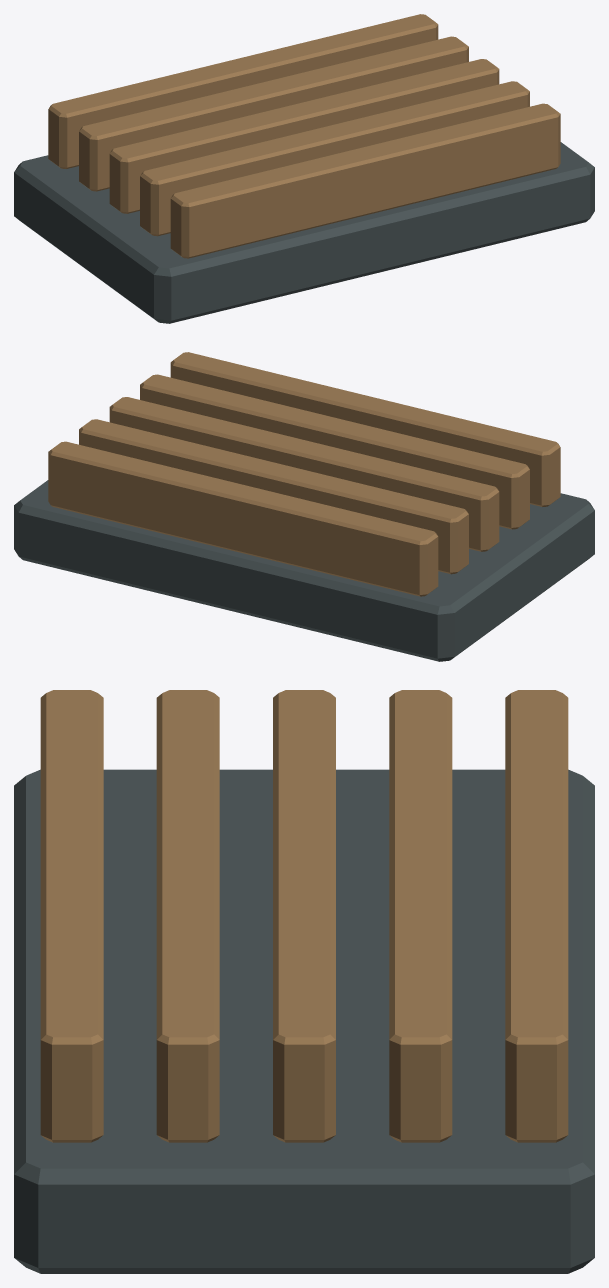
File: vent.glb
3 views of the same model, one above another, from view 1: azimuth 30°, elevation 25°; view 2: azimuth 150°, elevation 25°; view 3: azimuth 270°, elevation 25° (orthographic). The views are drawn at different scales.
Visible parts, largest first — view 1: vent__body; view 2: vent__body; view 3: vent__body.
Boxes of the visible parts, bbox=[...] form: vent__body: bbox=[14, 14, 594, 323]; vent__body: bbox=[14, 352, 594, 661]; vent__body: bbox=[14, 690, 594, 1273].
Size of the model in its own units: 1 by 0.24 by 0.6.
